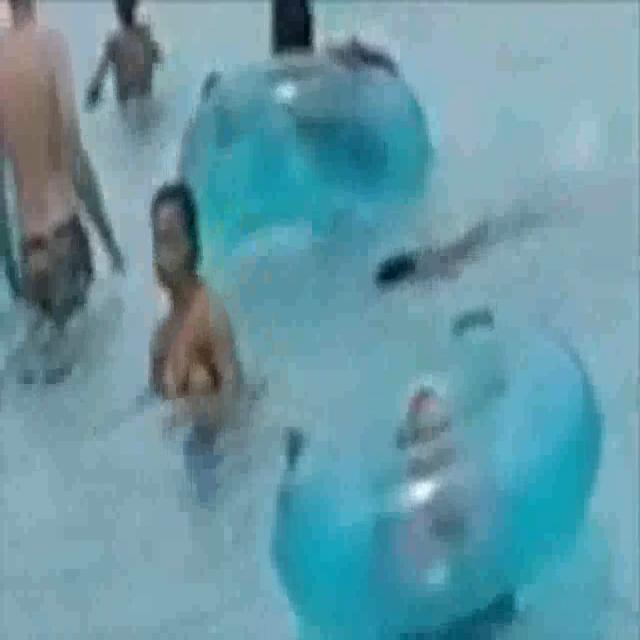Out of Water: (363, 208, 527, 337)
